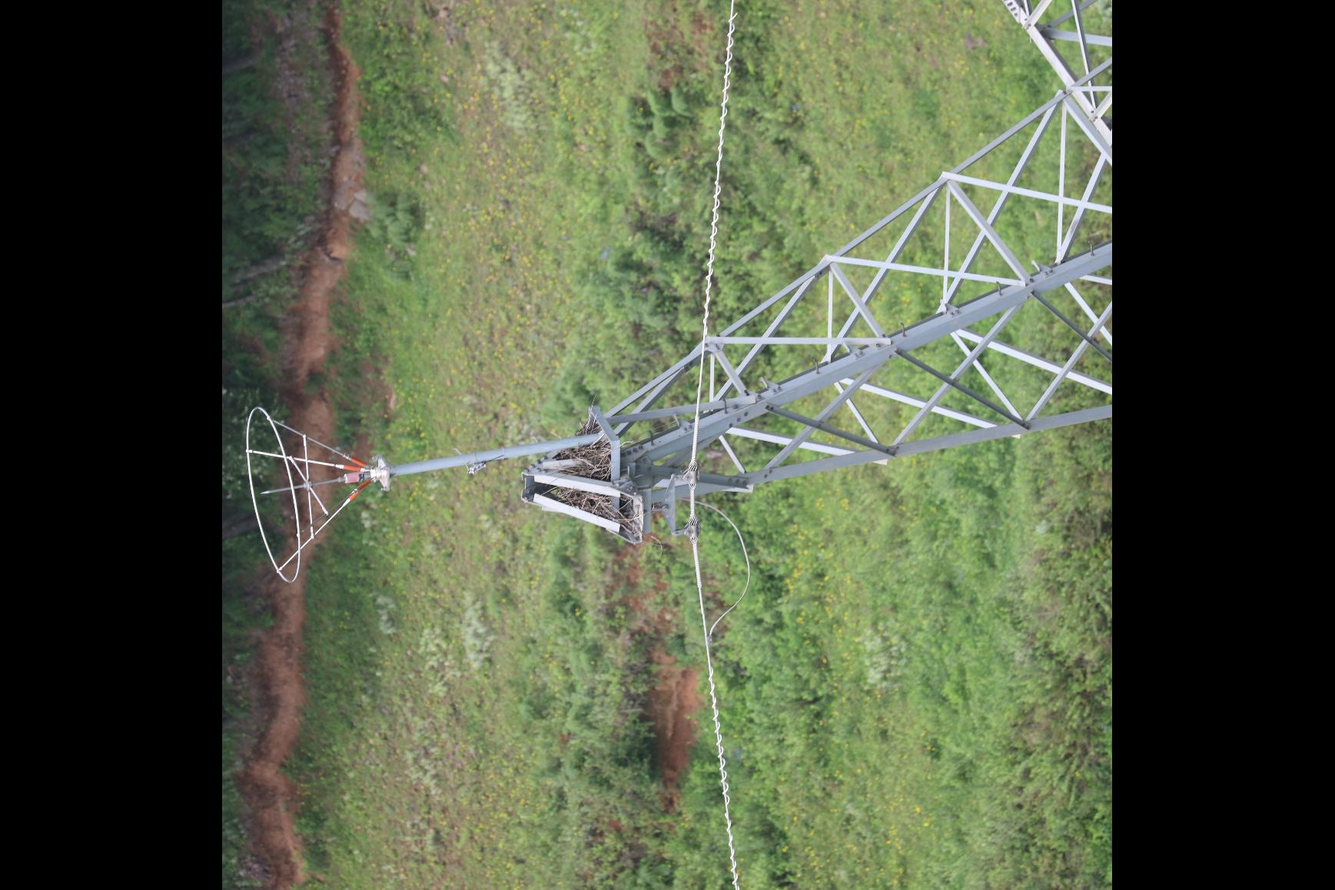nest: (554, 437, 626, 526)
